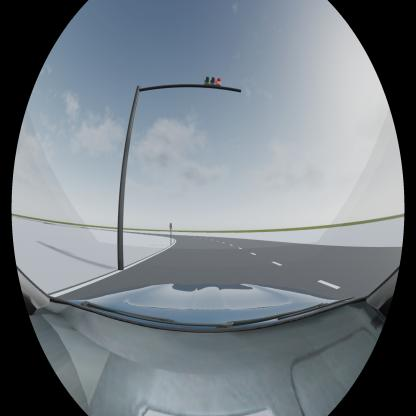Red Light: (204, 76, 222, 89)
